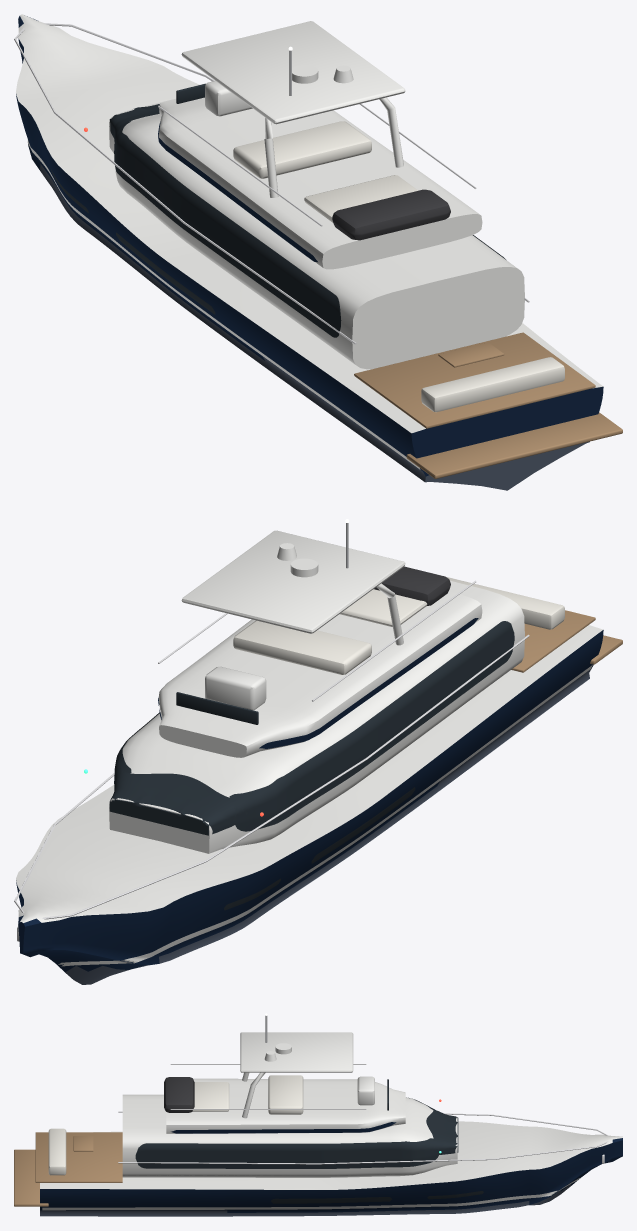
The model's file is majesty.glb.
3 views of the same model, one above another, from view 1: azimuth 30°, elevation 25°; view 2: azimuth 150°, elevation 25°; view 3: azimuth 270°, elevation 25° (orthographic). The views are drawn at different scales.
Visible parts, largest first — view 1: Body; view 2: Body; view 3: Body.
Part boxes in pixels (x1,y1,x2,y2): Body: (14,14,622,490); Body: (14,519,622,984); Body: (14,1013,622,1216).
Bounding box in the file's own units: 6.77 × 9.76 × 28.
